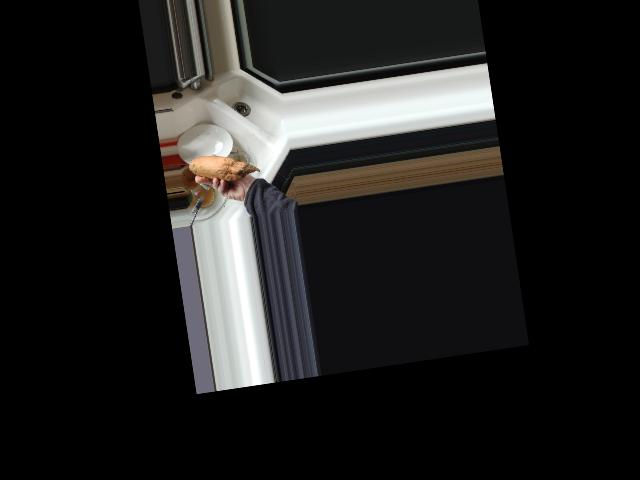sweet_potato: (188, 146, 261, 186)
